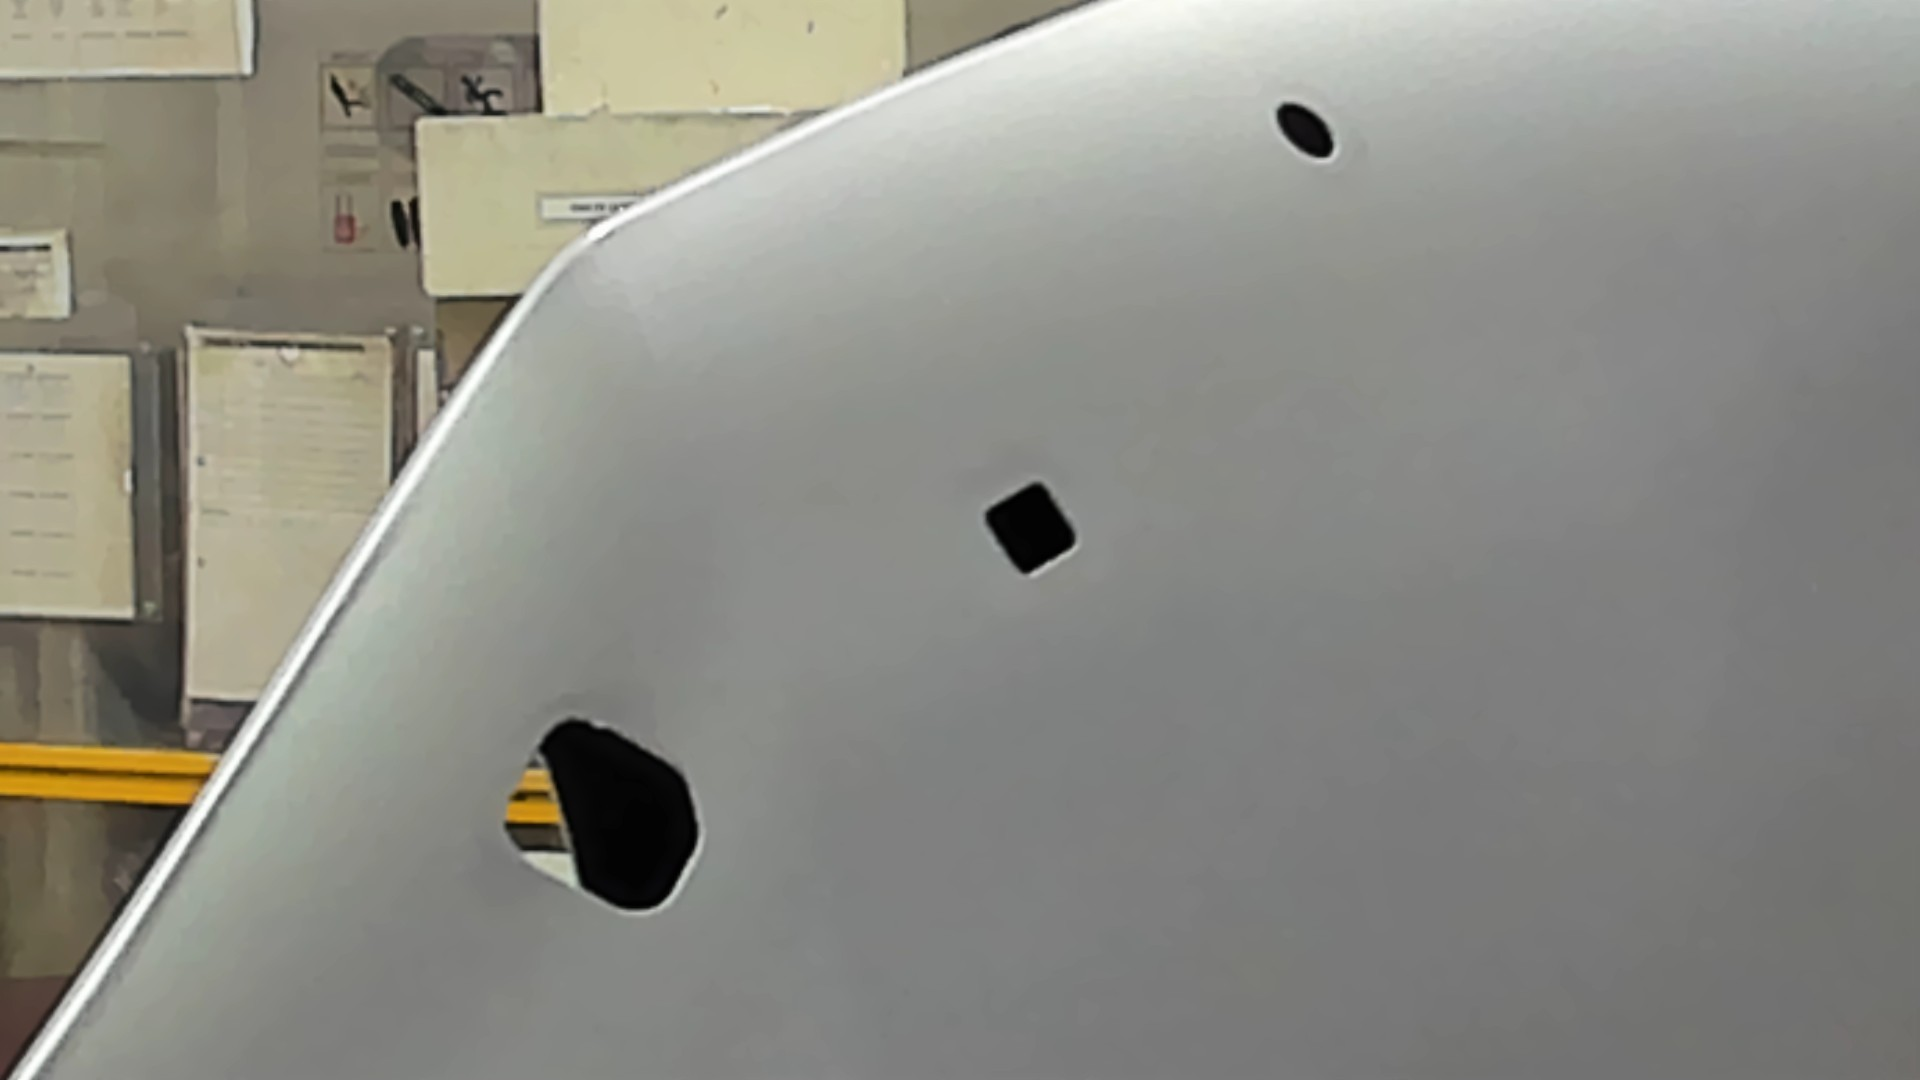chico: (1270, 98, 1340, 161)
grande: (498, 715, 709, 916)
mediano: (978, 475, 1081, 580)
